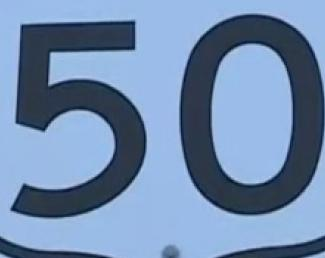Speed Limit -50-: (0, 1, 324, 257)
